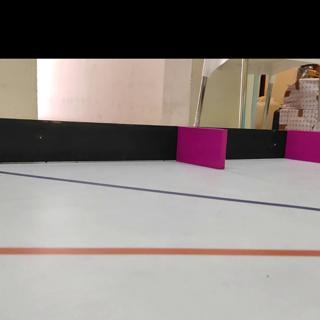xparking: (180, 127, 225, 166), (285, 130, 320, 159)
